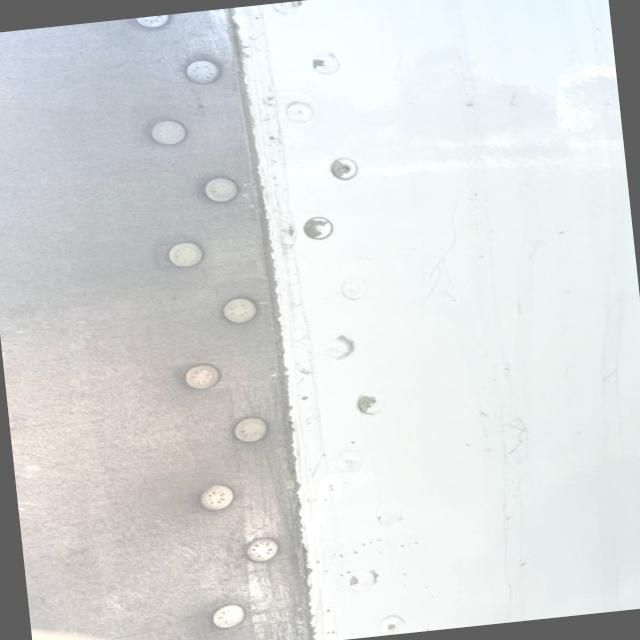crack: (418, 210, 478, 306), (488, 408, 528, 456)
